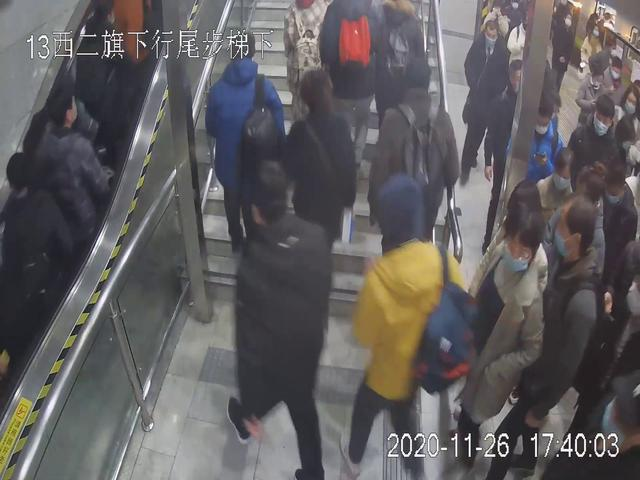person: (226, 166, 346, 479), (337, 176, 462, 461), (508, 198, 614, 480), (458, 201, 545, 480), (201, 30, 290, 263), (370, 55, 459, 275), (29, 87, 109, 289), (289, 72, 355, 294), (562, 92, 625, 232), (461, 19, 511, 181)
